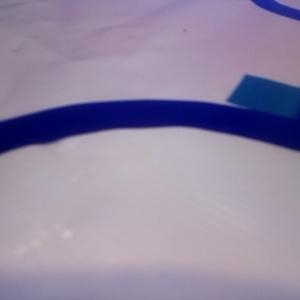top_left: (227, 75, 300, 136)
